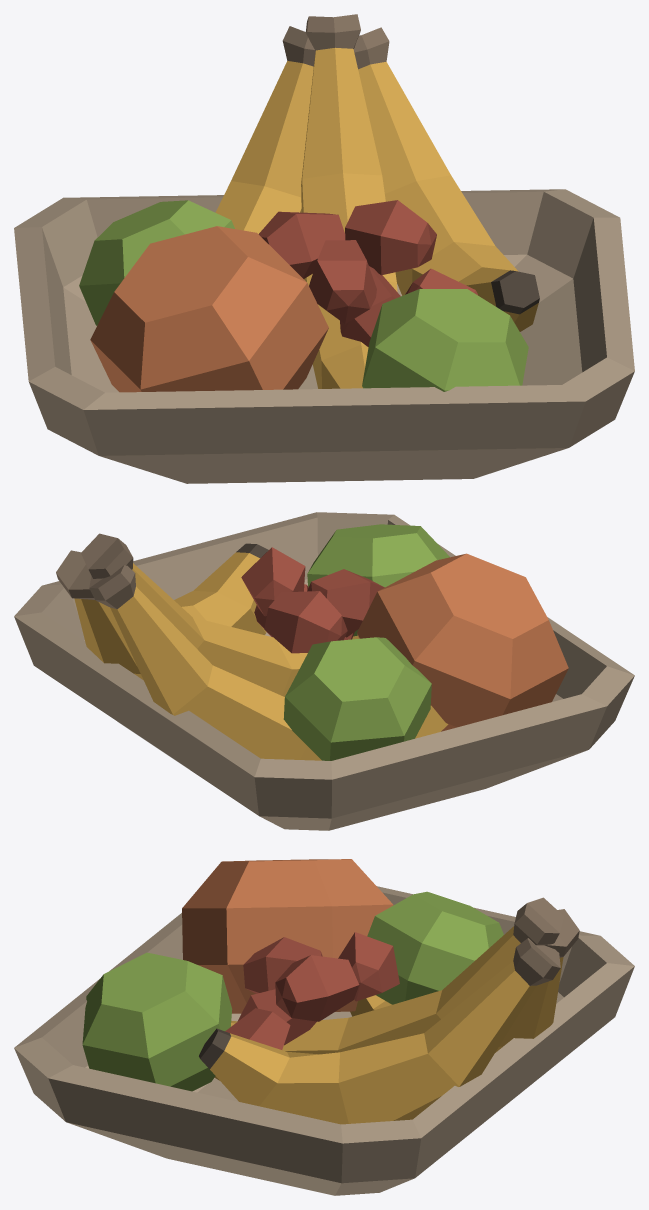
3 views of the same model, one above another, from view 1: azimuth 30°, elevation 25°; view 2: azimuth 150°, elevation 25°; view 3: azimuth 270°, elevation 25° (orthographic). The views are drawn at different scales.
Visible parts, largest first — view 1: huitugou_2200_2920; view 2: huitugou_2200_2920; view 3: huitugou_2200_2920.
Boxes of the visible parts, <box> form: huitugou_2200_2920: <box>14,14,634,483</box>; huitugou_2200_2920: <box>14,512,634,830</box>; huitugou_2200_2920: <box>14,859,634,1195</box>.
Size of the model in its own units: 64.09 by 29.37 by 61.6.
